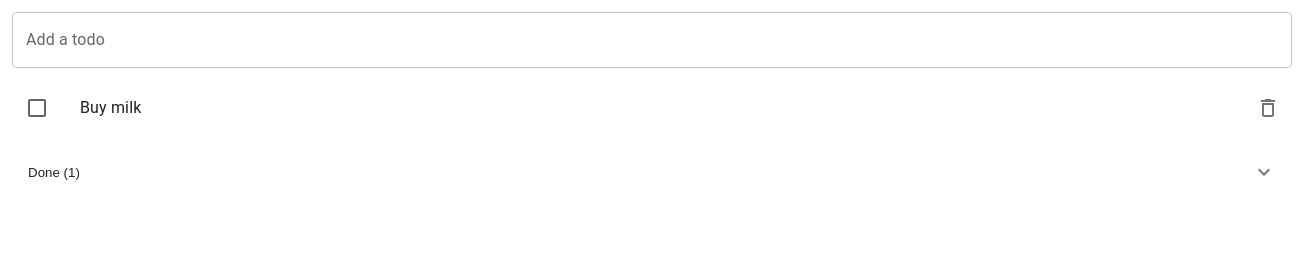
Test: done todos wait in a collapsed Done section that opens when clicked
Check: the checkbox labelled "Buy milk" is not checked, box [25, 96, 49, 120]
Check: the text "Call the dentist" is not shown
Click the button "Done (1)": point(48, 172) [12, 148, 1292, 196]
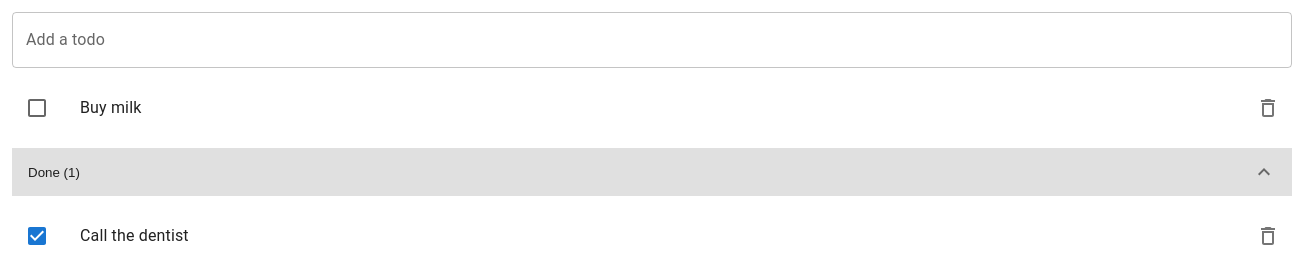
Check: the checkbox labelled "Call the dentist" is checked, box [25, 224, 49, 248]
